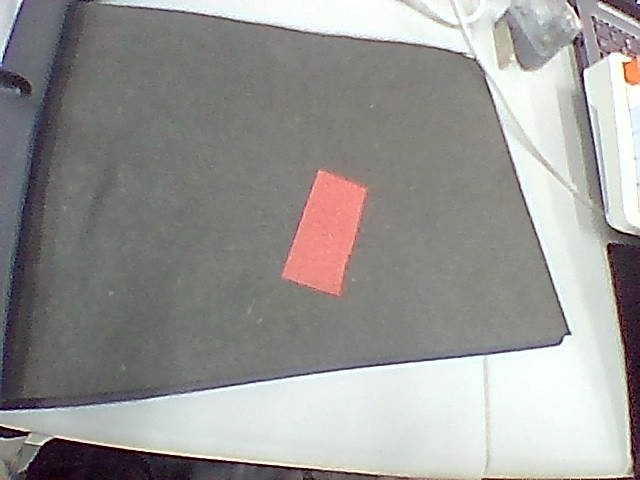card: (282, 170, 366, 294)
